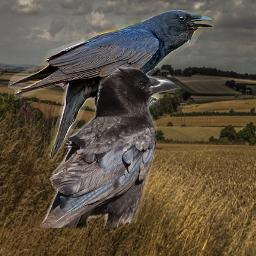Crow: (8, 10, 214, 161), (39, 66, 181, 228)
